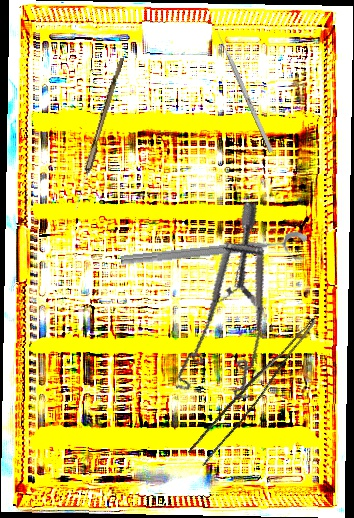Fixation Ring: (119, 230, 310, 281)
Pusher: (213, 25, 274, 154)
Speculum: (130, 198, 309, 420)
Surgical Spoon: (72, 56, 125, 212)
Tissue Forceps: (186, 304, 317, 471)
